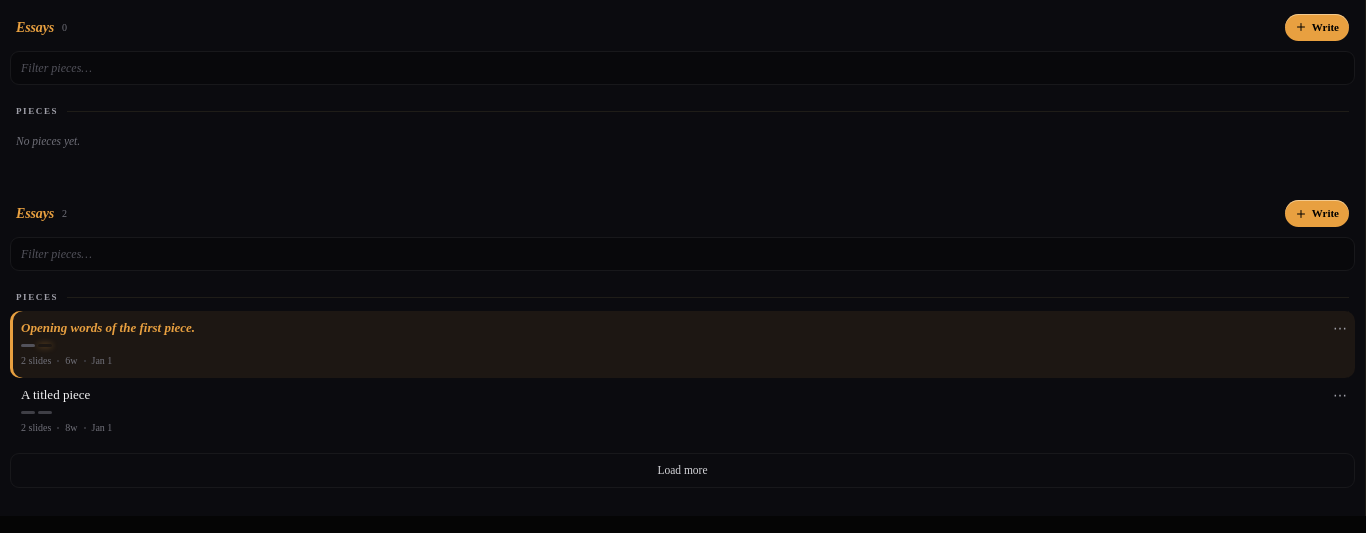
EssaySpine — states › says so when there are no pieces, and when a filter matches none
This screenshot has width=1366, height=533.
Check: the text with class "hint" shows "No pieces yet", box [16, 135, 80, 147]
Type "zzzz-no-match" into the 2nd field with class "filter". click: (682, 254)
box: [10, 237, 1355, 271]
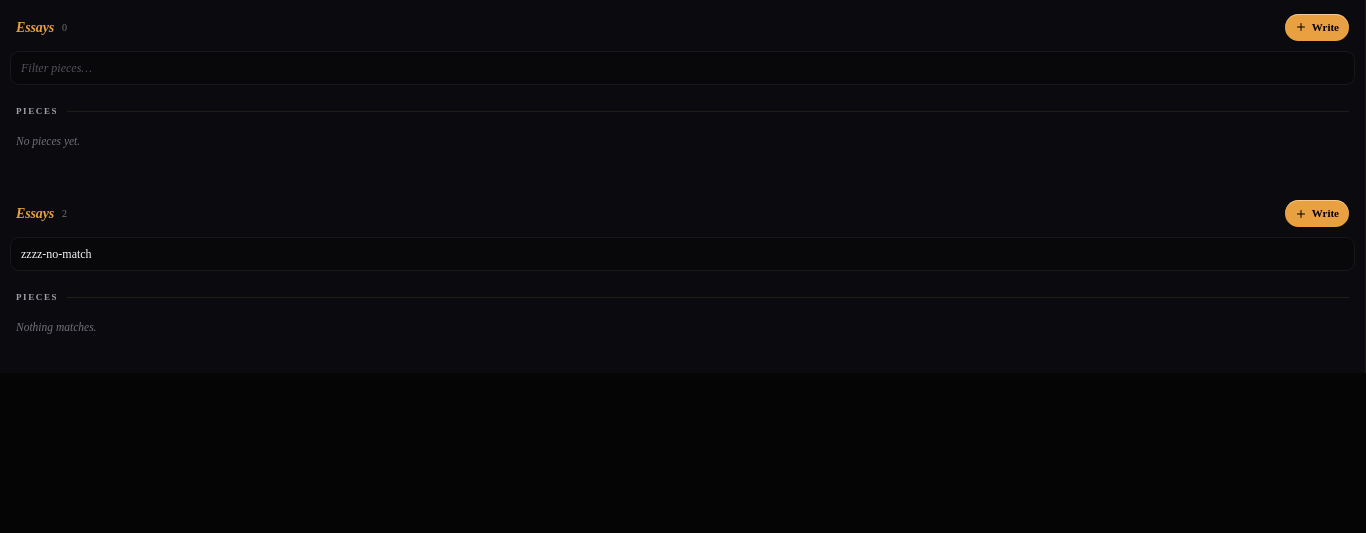
Check: the text with class "hint" shows "Nothing matches", box [16, 321, 96, 333]
